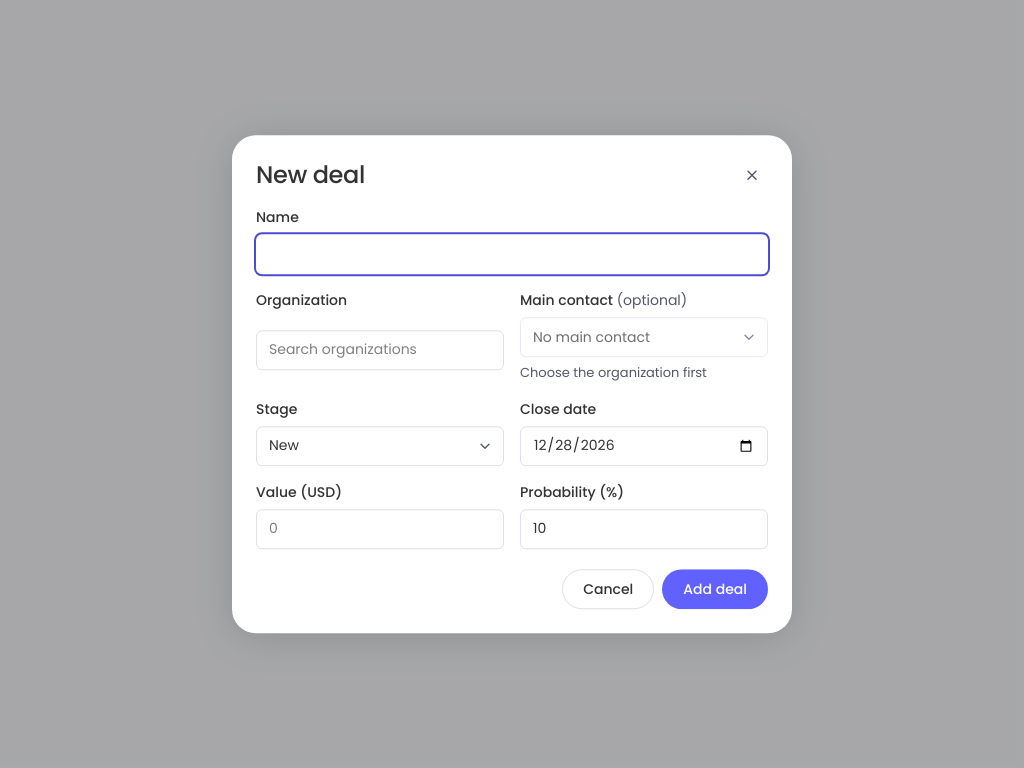
it: deal form › shows errors under required fields, a negative value and a probability over 100
The image size is (1024, 768).
Expected: the dialog "New deal" is shown, [232, 135, 792, 633]
Type "-5" into the field labelled "Value (USD)" at (380, 529), box [256, 509, 504, 549]
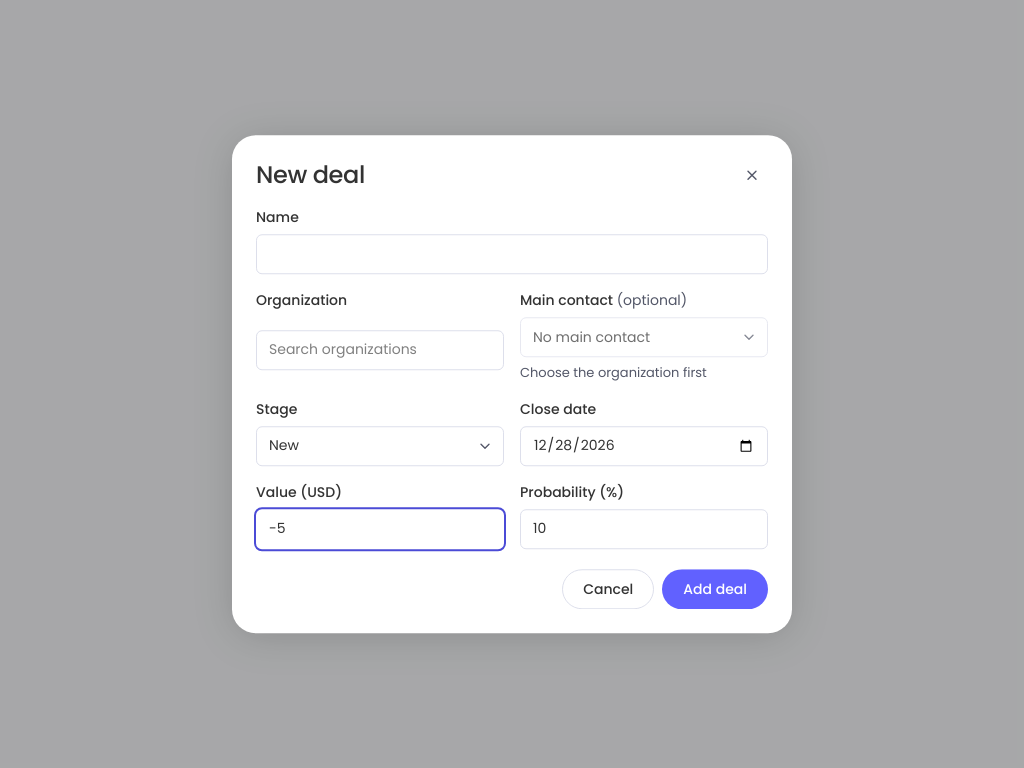
Replace the text in the field labelled "Probability (%)" with "101" at (644, 529), box [520, 509, 768, 549]
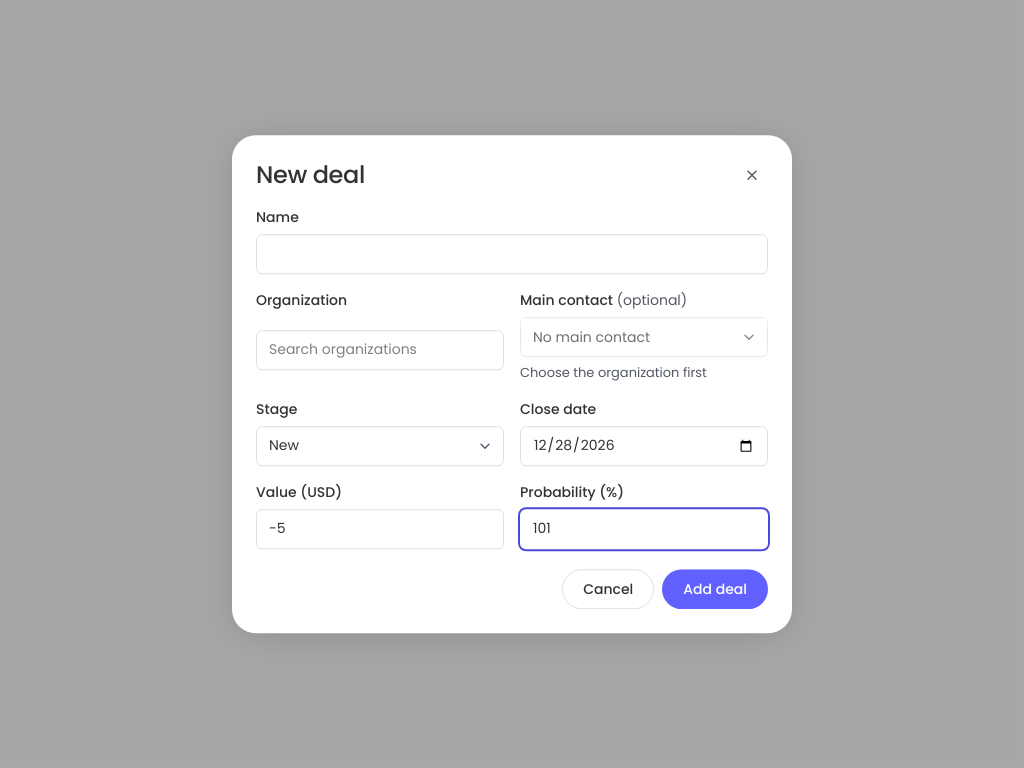
Click the button "Add deal" at (715, 589), box [662, 569, 768, 609]
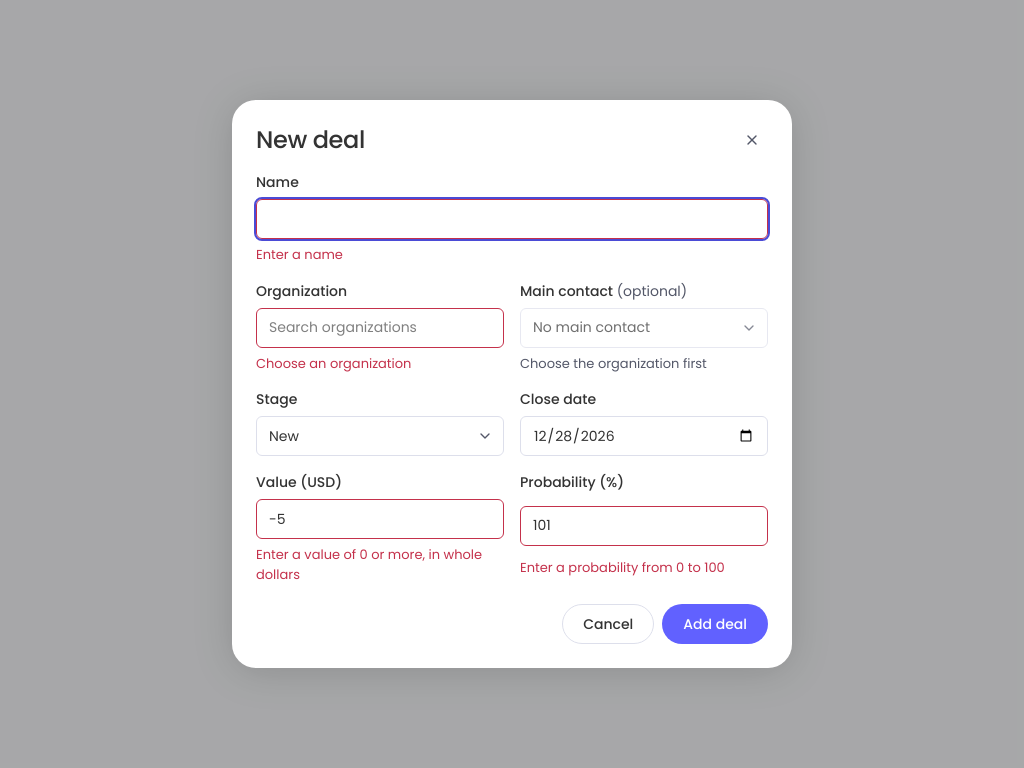
Expected: the text "Enter a name" is shown, [256, 245, 343, 264]
Expected: the text "Choose an organization" is shown, [256, 354, 411, 372]
Expected: the text "Enter a value of 0 or more, in whole dollars" is shown, [256, 545, 504, 584]
